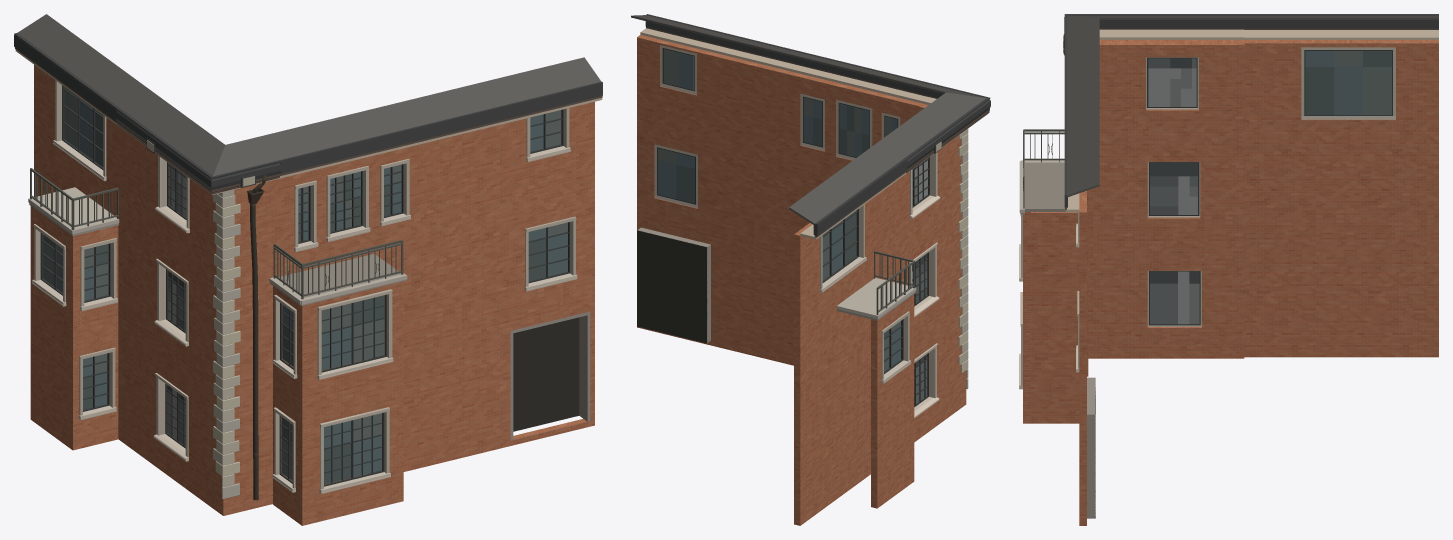
The model's file is jingan-may-lee-court-no14-canted-bay-raw.glb.
The picture shows the model from 3 angles, left to right: view 1: azimuth 30°, elevation 25°; view 2: azimuth 150°, elevation 25°; view 3: azimuth 270°, elevation 25°; orthographic projection. The views are drawn at different scales.
Visible parts, largest first — view 1: 美丽园14号园侧砖墙、折角钢窗与露台; view 2: 美丽园14号园侧砖墙、折角钢窗与露台; view 3: 美丽园14号园侧砖墙、折角钢窗与露台.
Boxes of the visible parts, x1=… form: 美丽园14号园侧砖墙、折角钢窗与露台: x1=14, y1=14, x2=602, y2=525; 美丽园14号园侧砖墙、折角钢窗与露台: x1=631, y1=14, x2=990, y2=525; 美丽园14号园侧砖墙、折角钢窗与露台: x1=1019, y1=14, x2=1438, y2=525.
Bounding box in the file's own units: 12.68 × 10.38 × 11.55.
35 materials, 1 textured.
